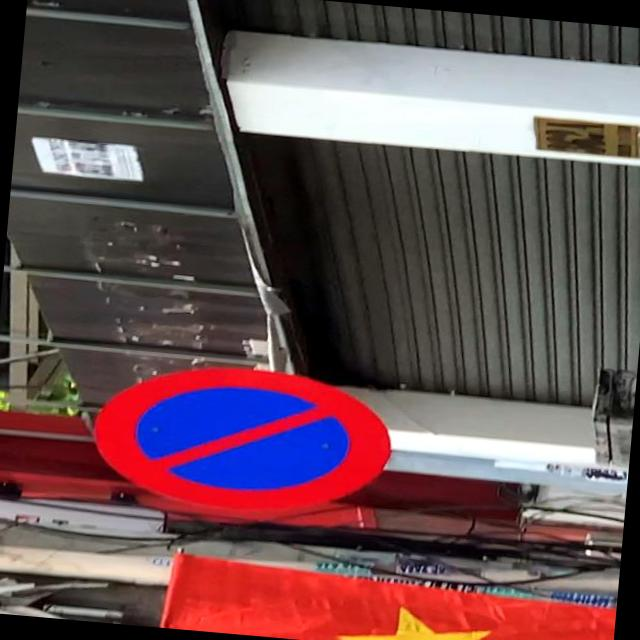P-131a: (88, 356, 396, 528)
